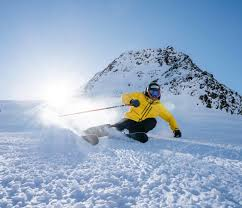skier: (65, 74, 202, 155)
